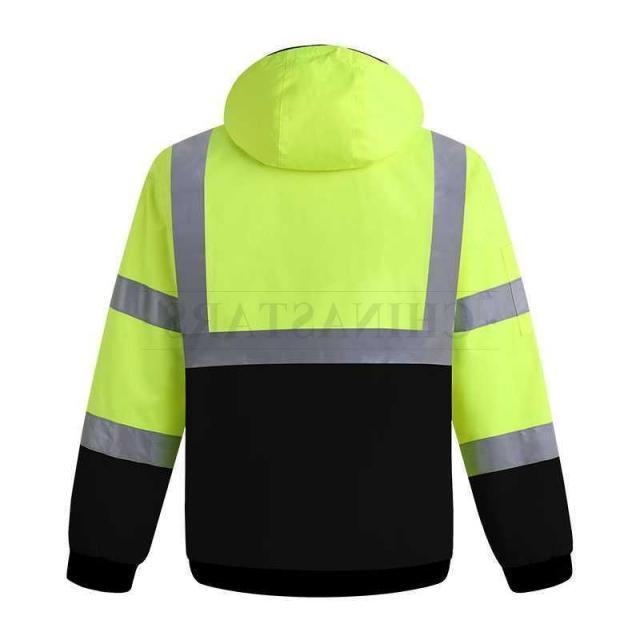reflective_jacket: (58, 48, 596, 629)
